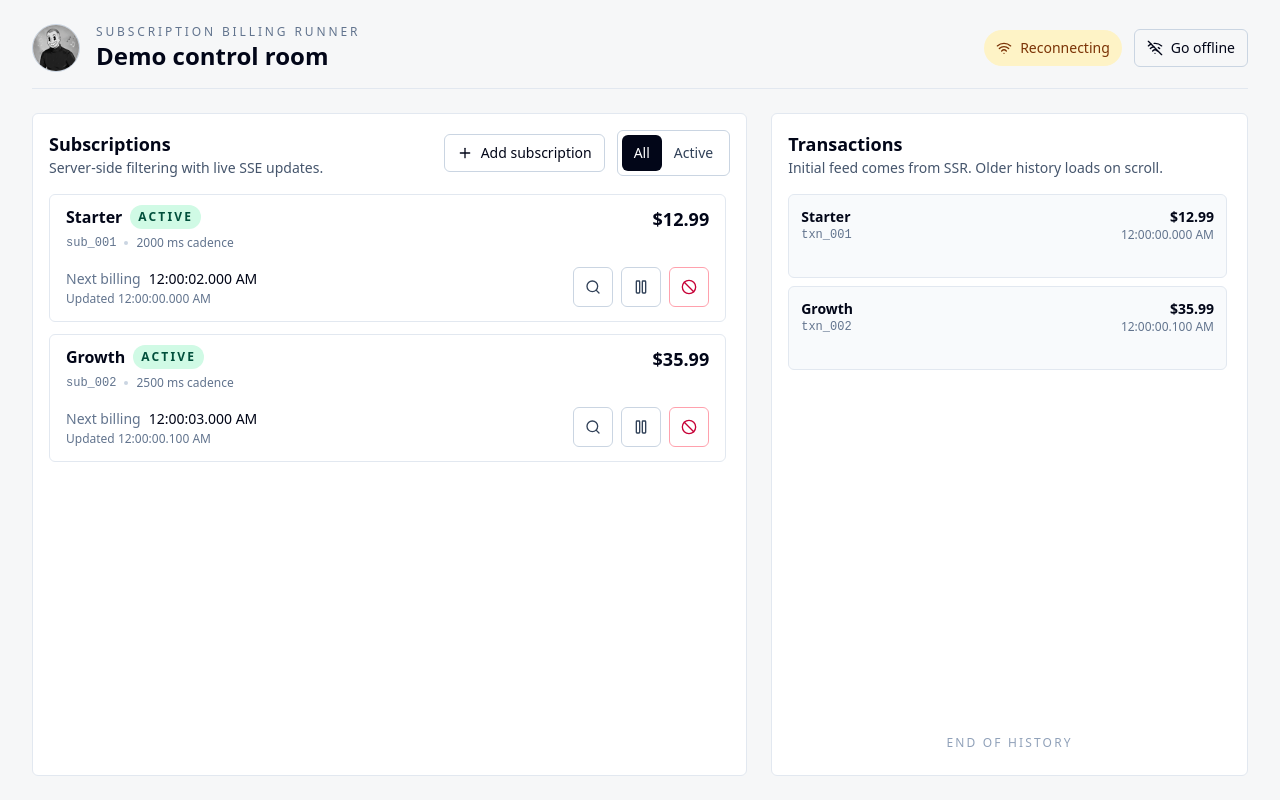
Test: Dashboard › keeps the create form hidden until the user opens it
Expected: the field labelled "Plan" is not shown
Click the button "Add subscription". click: [524, 153]
box: [444,134,605,172]
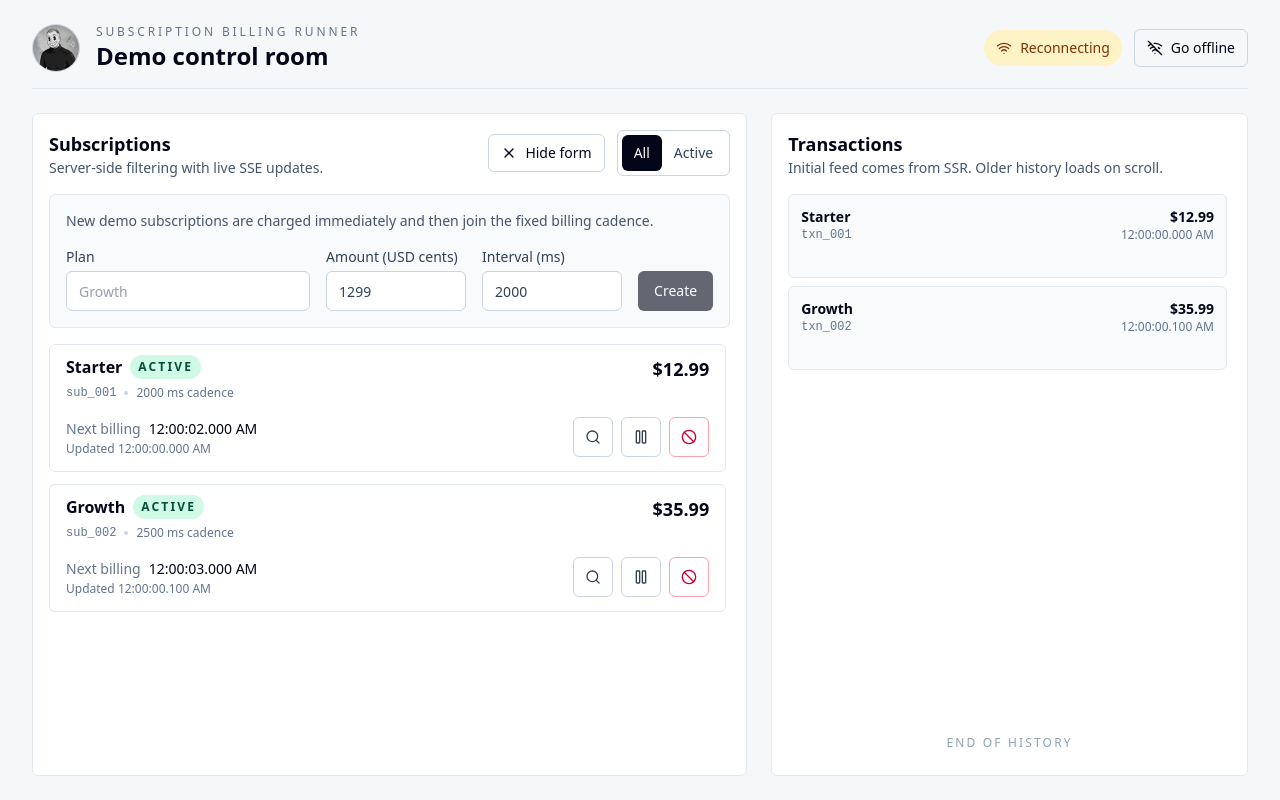
Result: the field labelled "Plan" is shown at [66,271,310,311]
